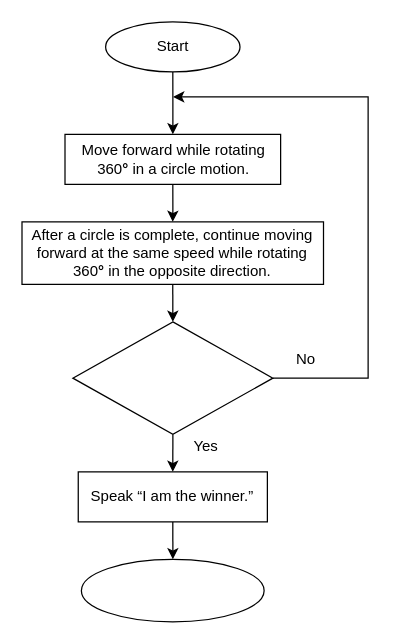
Image size: 400x644. Some labels were removed from this diagram. The shapes that lost their labels are listed below. From the top down, each one's centre as x and y in pixels, then its label:
point (172, 377): Have 5 loops been completed?
point (172, 590): Flash multicolored lights for 5 seconds.
